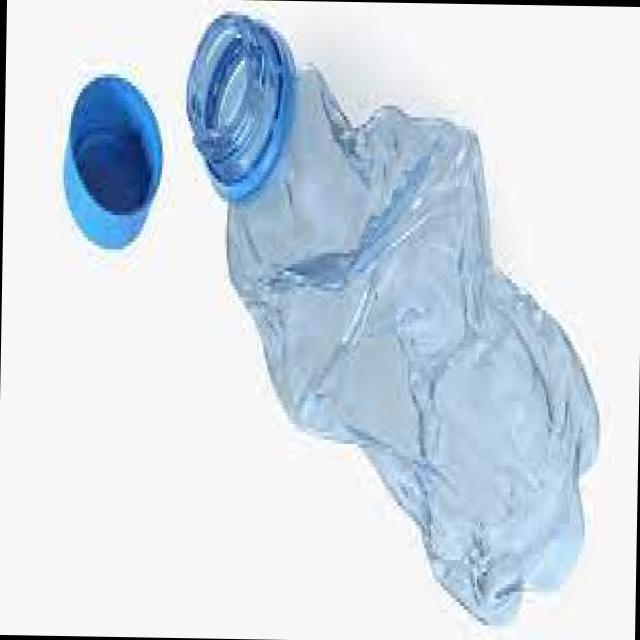defected: (170, 10, 612, 629)
